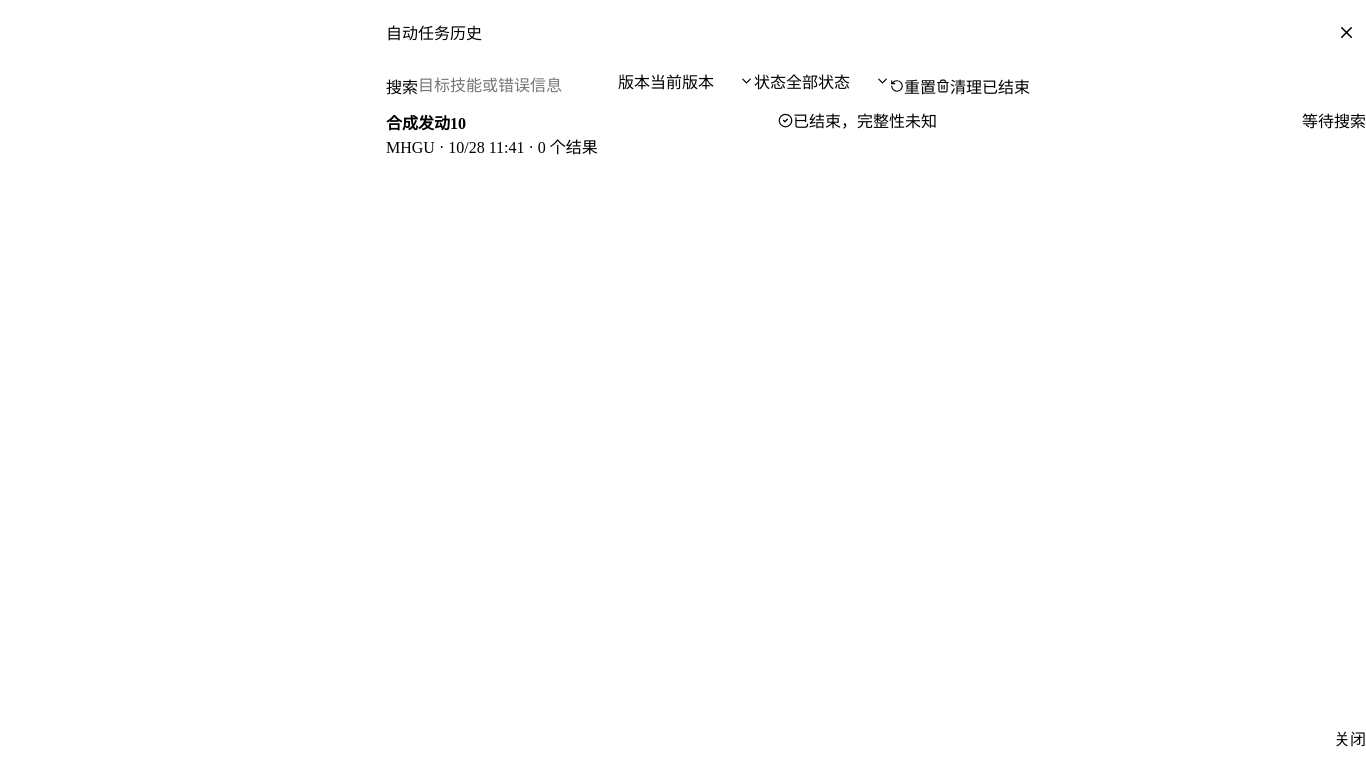
it: copy historical conditions into an editable new form › requires switching to the matching game before copying foreign history
This screenshot has width=1366, height=768.
What coordinates should you click on to do the following:
click the button "合成发动10 MHGU · 10/28 11:41 · 0 个结果 已结束，完整性未知 等待搜索"
I would click on:
 (426, 124)
Its box is [386, 98, 1365, 170].
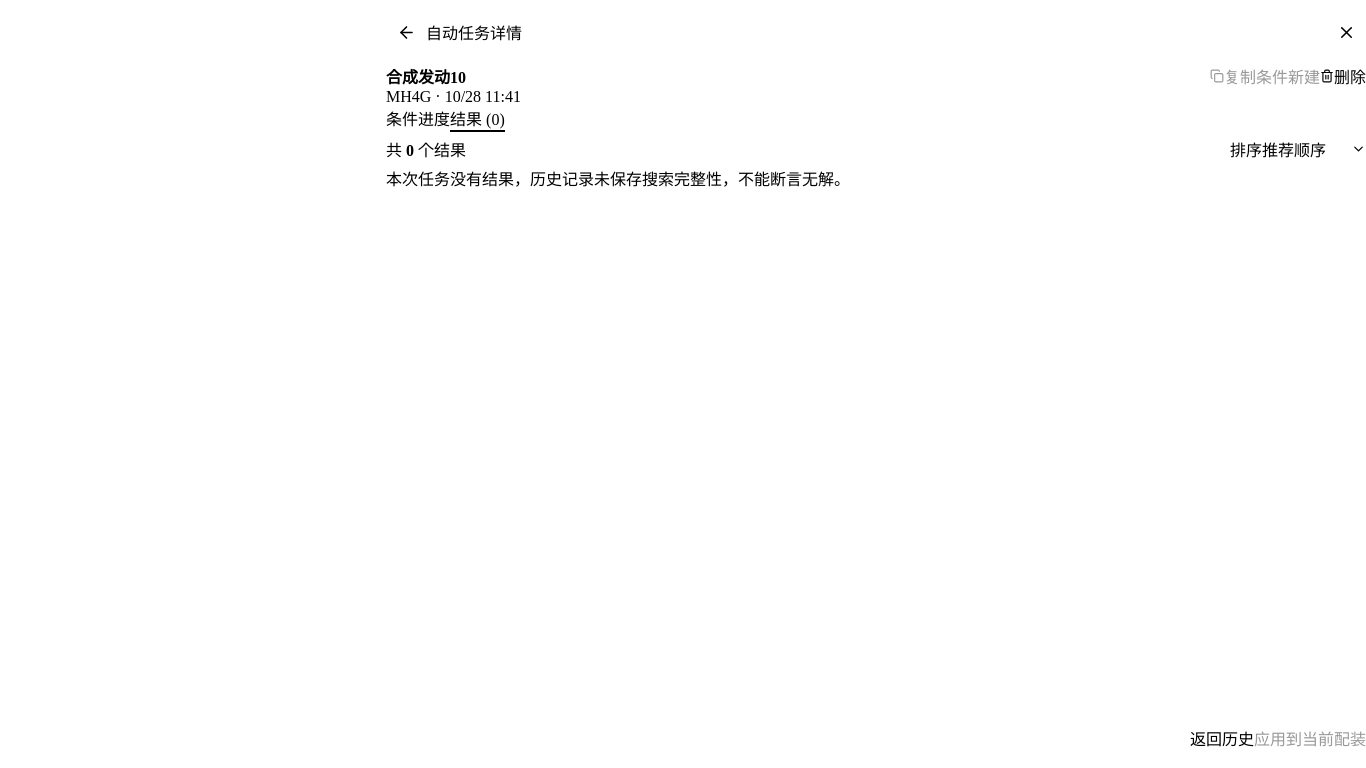
Result: the dialog "自动任务详情" is shown
Result: the button "复制条件新建" is disabled at [1210, 64, 1320, 88]
